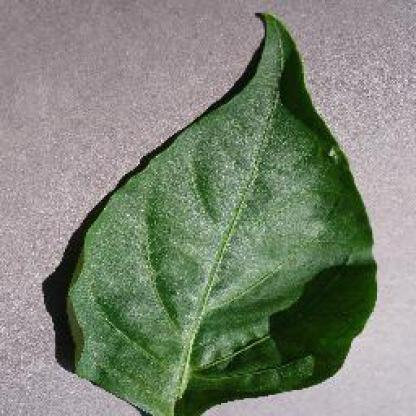good leaf: (47, 15, 399, 410)
